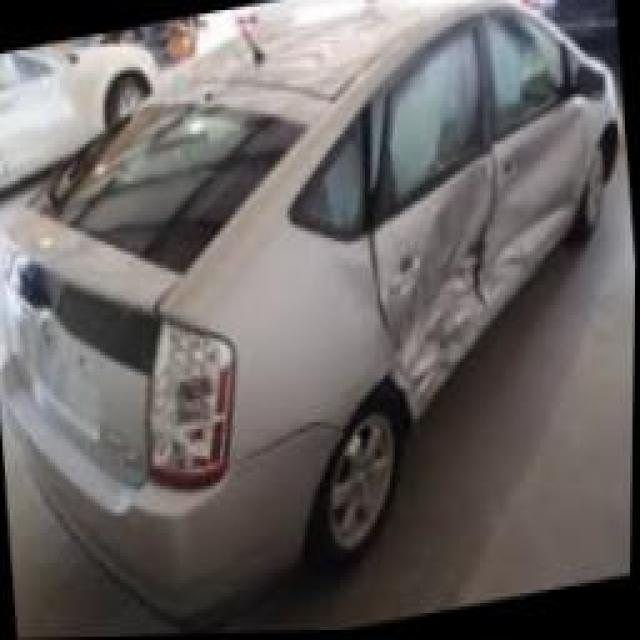Door: (364, 15, 580, 422)
